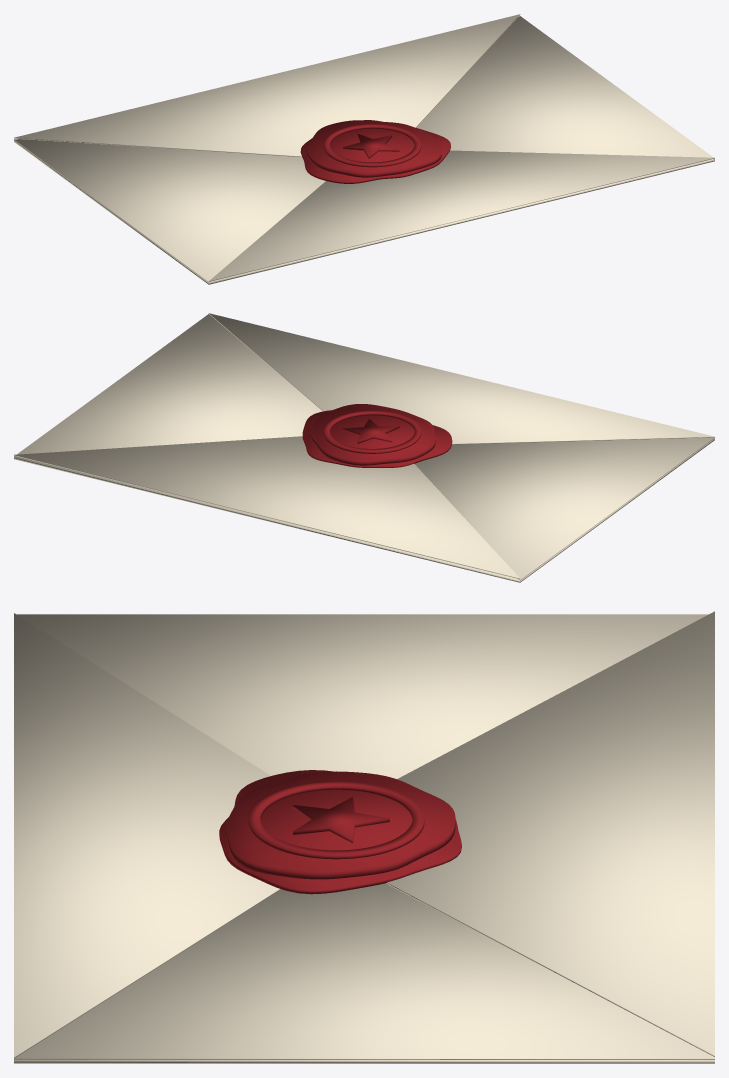
Rendered from envelope.glb.
The picture shows the model from 3 angles, top to bottom: view 1: azimuth 30°, elevation 25°; view 2: azimuth 150°, elevation 25°; view 3: azimuth 270°, elevation 25°; orthographic projection. The views are drawn at different scales.
Parts seen in each view (by area): view 1: Env_FlapTop, Env_FlapBottom, Env_FlapLeft, Env_FlapRight, Wax_Puddle, Wax_Disc, Env_Body; view 2: Env_FlapTop, Env_FlapLeft, Env_FlapBottom, Env_FlapRight, Wax_Disc, Wax_Puddle, Env_Body; view 3: Env_FlapTop, Env_FlapRight, Env_FlapBottom, Env_FlapLeft, Wax_Puddle, Wax_Disc, Env_Body.
Boxes of the visible parts, bbox=[...] form: Env_FlapTop: bbox=[14, 14, 520, 156]; Env_FlapBottom: bbox=[208, 150, 714, 281]; Env_FlapLeft: bbox=[14, 139, 325, 282]; Env_FlapRight: bbox=[416, 16, 714, 159]; Wax_Puddle: bbox=[300, 120, 450, 183]; Wax_Disc: bbox=[306, 120, 441, 177]; Env_Body: bbox=[14, 17, 714, 284]; Env_FlapTop: bbox=[14, 436, 520, 578]; Env_FlapLeft: bbox=[415, 437, 714, 580]; Env_FlapBottom: bbox=[208, 313, 714, 444]; Env_FlapRight: bbox=[14, 314, 322, 457]; Wax_Disc: bbox=[310, 404, 435, 465]; Wax_Puddle: bbox=[302, 410, 452, 467]; Env_Body: bbox=[14, 438, 714, 582]; Env_FlapTop: bbox=[386, 611, 714, 1056]; Env_FlapRight: bbox=[14, 883, 714, 1059]; Env_FlapBottom: bbox=[14, 613, 280, 1058]; Env_FlapLeft: bbox=[16, 614, 708, 778]; Wax_Puddle: bbox=[219, 770, 461, 894]; Wax_Disc: bbox=[226, 771, 455, 879]; Env_Body: bbox=[14, 1052, 714, 1063].
Size of the model in its own units: 3 by 0.0738 by 2.
